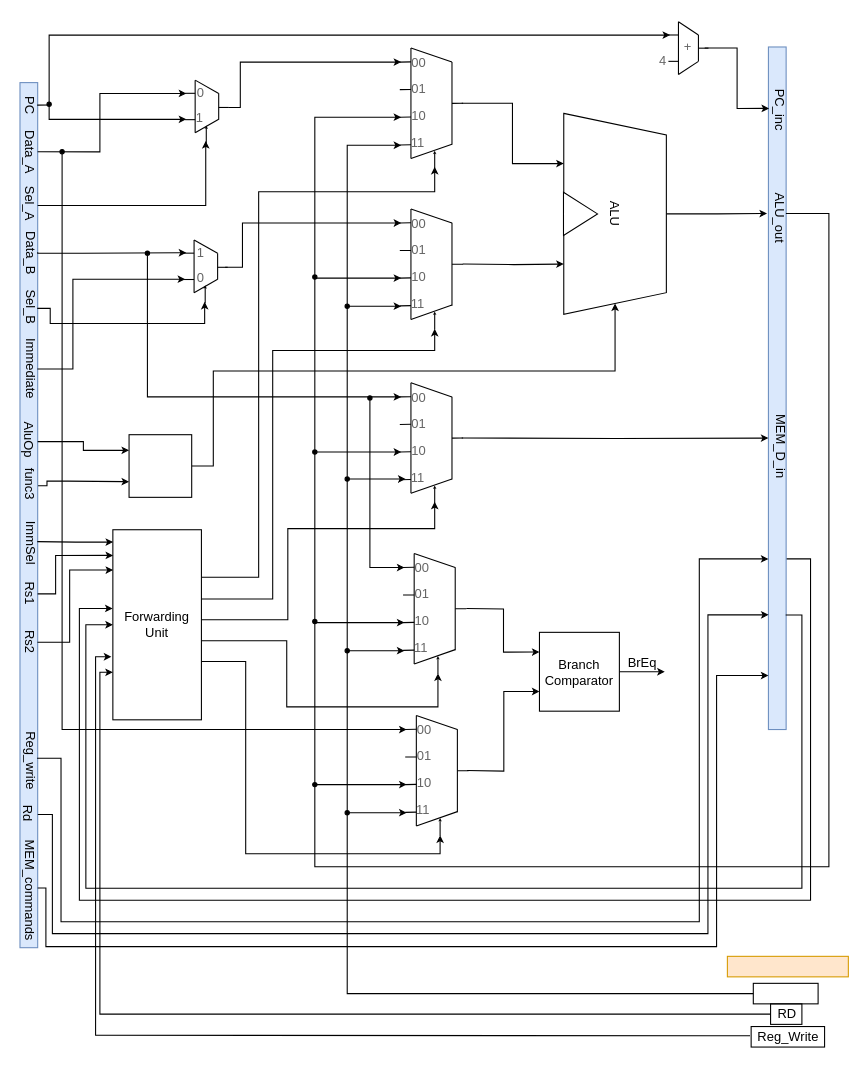
Image size: 867x1066. Some labels were removed from this diagram. Each missing label, with the centre of its shape:
"ALU Control Unit" belongs at pixel 160 465.
"Data_out" belongs at pixel 785 993.
"FROM WB STAGE" belongs at pixel 787 966.
